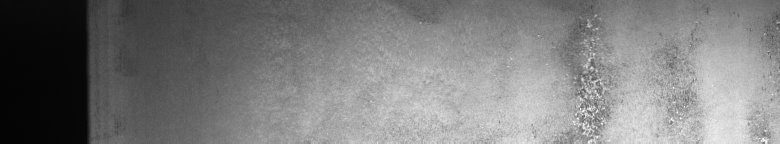hc: (573, 6, 697, 136)
